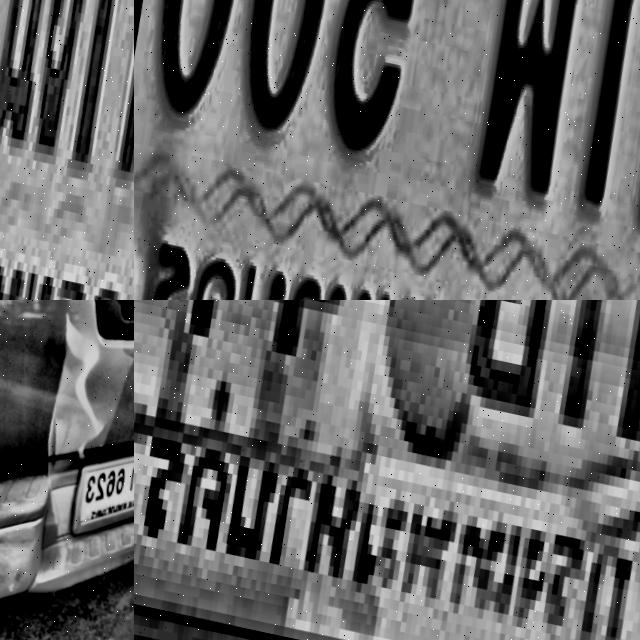license-plate: (134, 300, 640, 640), (134, 0, 640, 300), (0, 0, 134, 300), (57, 428, 134, 549)
